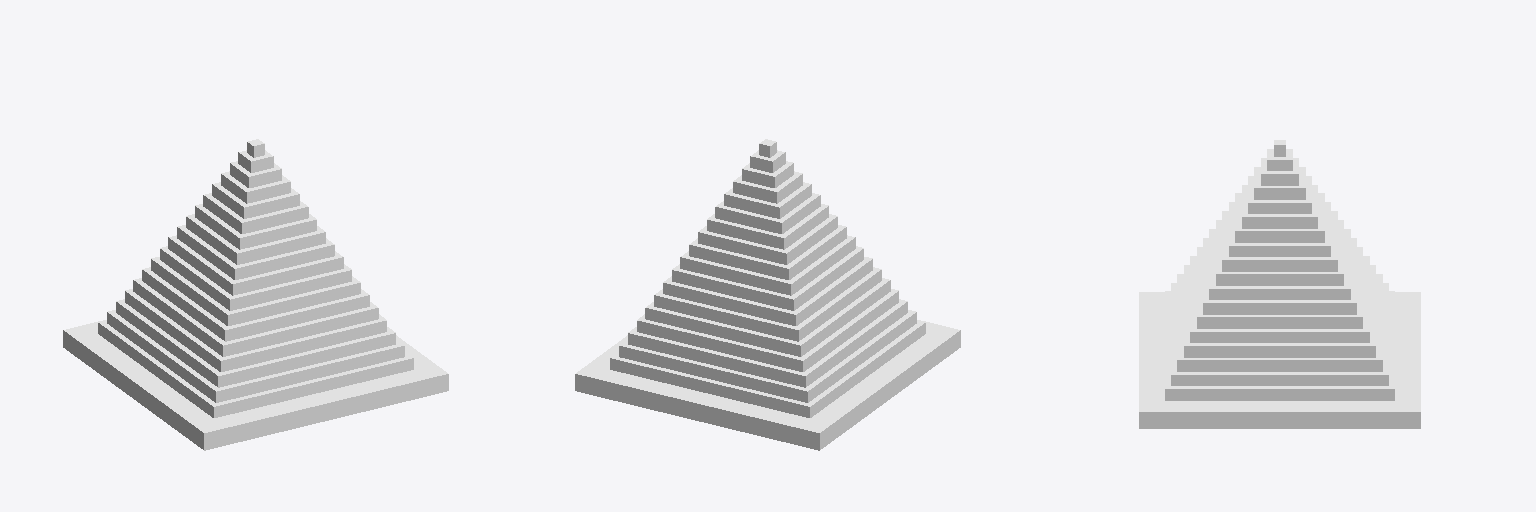
File: Cono.obj
3 renders of one model, left to right at view 1: azimuth 30°, elevation 25°; view 2: azimuth 150°, elevation 25°; view 3: azimuth 270°, elevation 25°, orthographic.
Visible parts, largest first — view 1: object 1; view 2: object 1; view 3: object 1.
Boxes of the visible parts, box(x1,y1,x2,y2) form: object 1: box(63, 139, 448, 450); object 1: box(575, 139, 960, 450); object 1: box(1139, 140, 1420, 428).
Bounding box in the file's own units: 4.4 × 3.9 × 4.4.